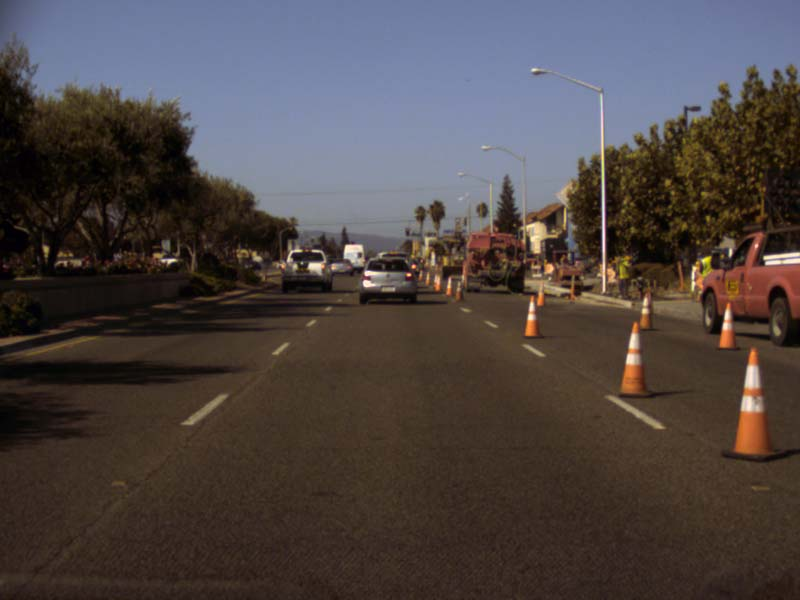Red: (405, 228, 409, 236)
